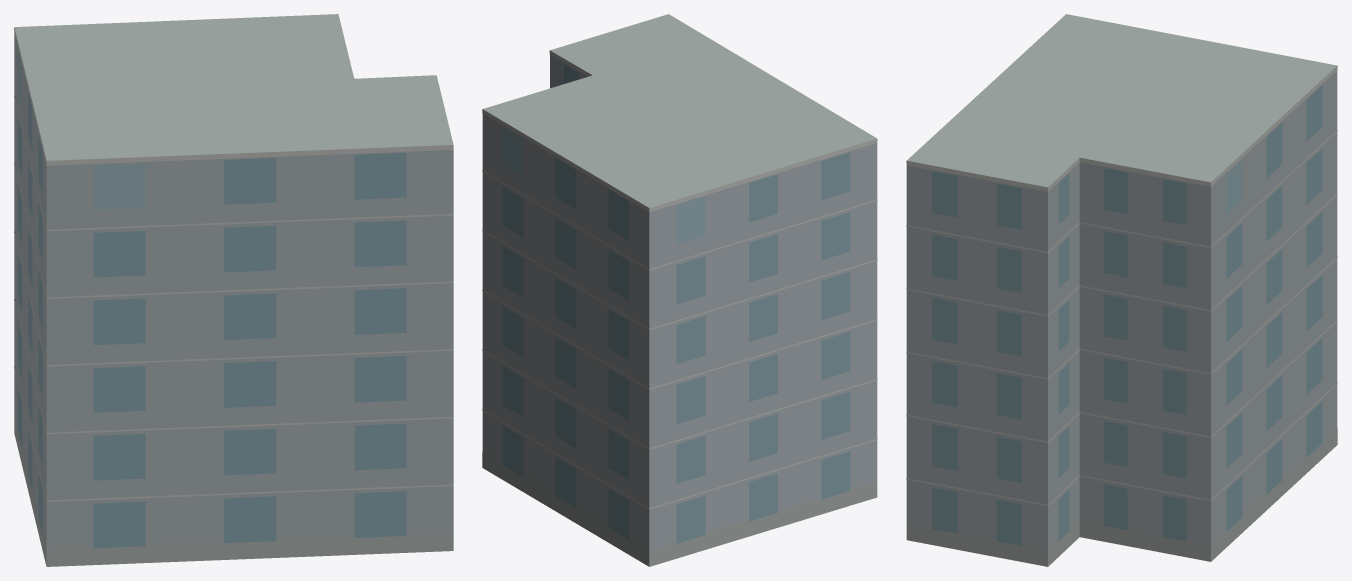
Rendered from survey-upis-33009142.glb.
3 views of the same model, side by side, from view 1: azimuth 30°, elevation 25°; view 2: azimuth 150°, elevation 25°; view 3: azimuth 270°, elevation 25° (orthographic). The views are drawn at different scales.
Parts seen in each view (by area): view 1: survey-upis-33009142.tmp; view 2: survey-upis-33009142.tmp; view 3: survey-upis-33009142.tmp.
Boxes of the visible parts, <box> form: survey-upis-33009142.tmp: <box>14,14,453,566</box>; survey-upis-33009142.tmp: <box>482,14,877,566</box>; survey-upis-33009142.tmp: <box>906,14,1337,566</box>.
Bounding box in the file's own units: 19.83 × 20.2 × 20.81.
